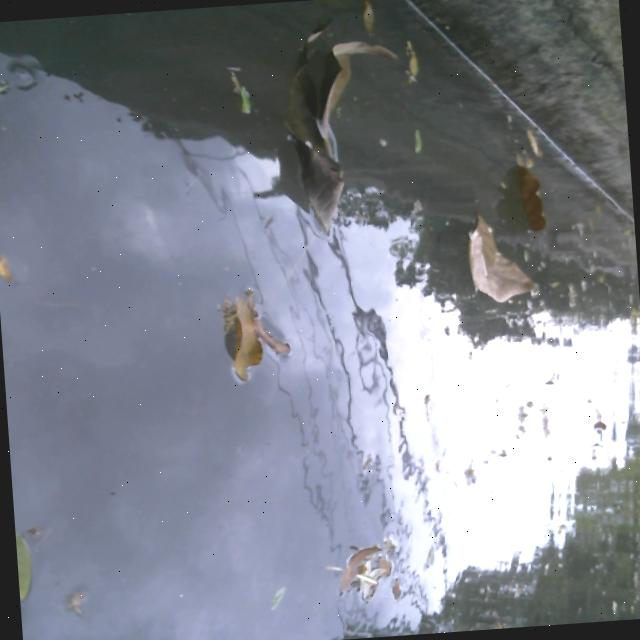Big-leaf: (280, 29, 398, 249), (199, 291, 291, 400), (457, 210, 537, 310), (509, 161, 554, 228)
Small-leaf: (197, 43, 264, 125), (13, 520, 49, 638), (330, 542, 392, 600), (513, 120, 557, 174), (392, 29, 432, 86), (346, 0, 381, 43), (402, 121, 429, 163), (0, 252, 32, 283)
